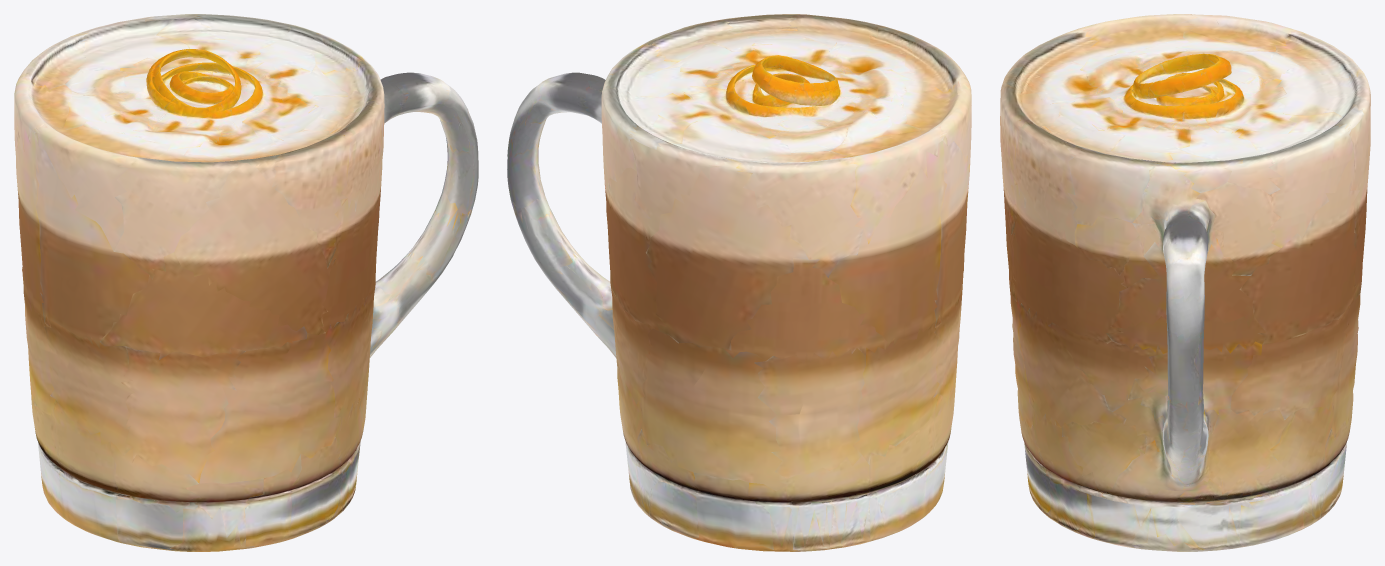
File: sodium-lite.glb
The picture shows the model from 3 angles, left to right: view 1: azimuth 30°, elevation 25°; view 2: azimuth 150°, elevation 25°; view 3: azimuth 270°, elevation 25°; orthographic projection.
Parts seen in each view (by area): view 1: Mesh_0; view 2: Mesh_0; view 3: Mesh_0.
Boxes of the visible parts, x1,y1,x2,y2 form: Mesh_0: (14, 14, 478, 551); Mesh_0: (507, 14, 971, 551); Mesh_0: (1000, 14, 1370, 551).
Bounding box in the file's own units: 1.9 × 1.8 × 1.4.
1 material, 1 textured.
